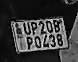0: (34, 35, 42, 49), (46, 19, 53, 33)
2: (38, 20, 48, 35)
3: (49, 32, 58, 49)
4: (43, 36, 50, 49)
8: (55, 32, 65, 47)
B: (53, 19, 61, 34)
P: (24, 35, 34, 52), (31, 20, 38, 34)
U: (22, 21, 32, 37)
